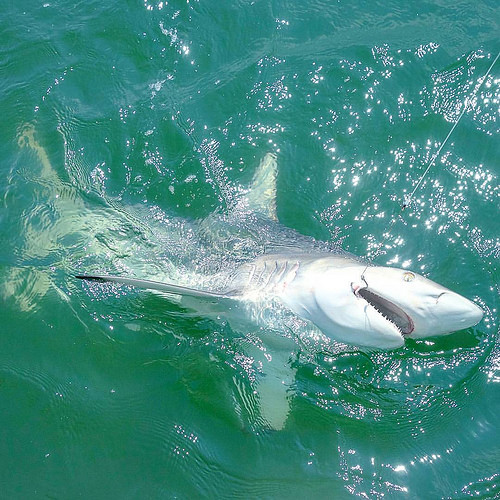shark: (20, 113, 487, 449)
